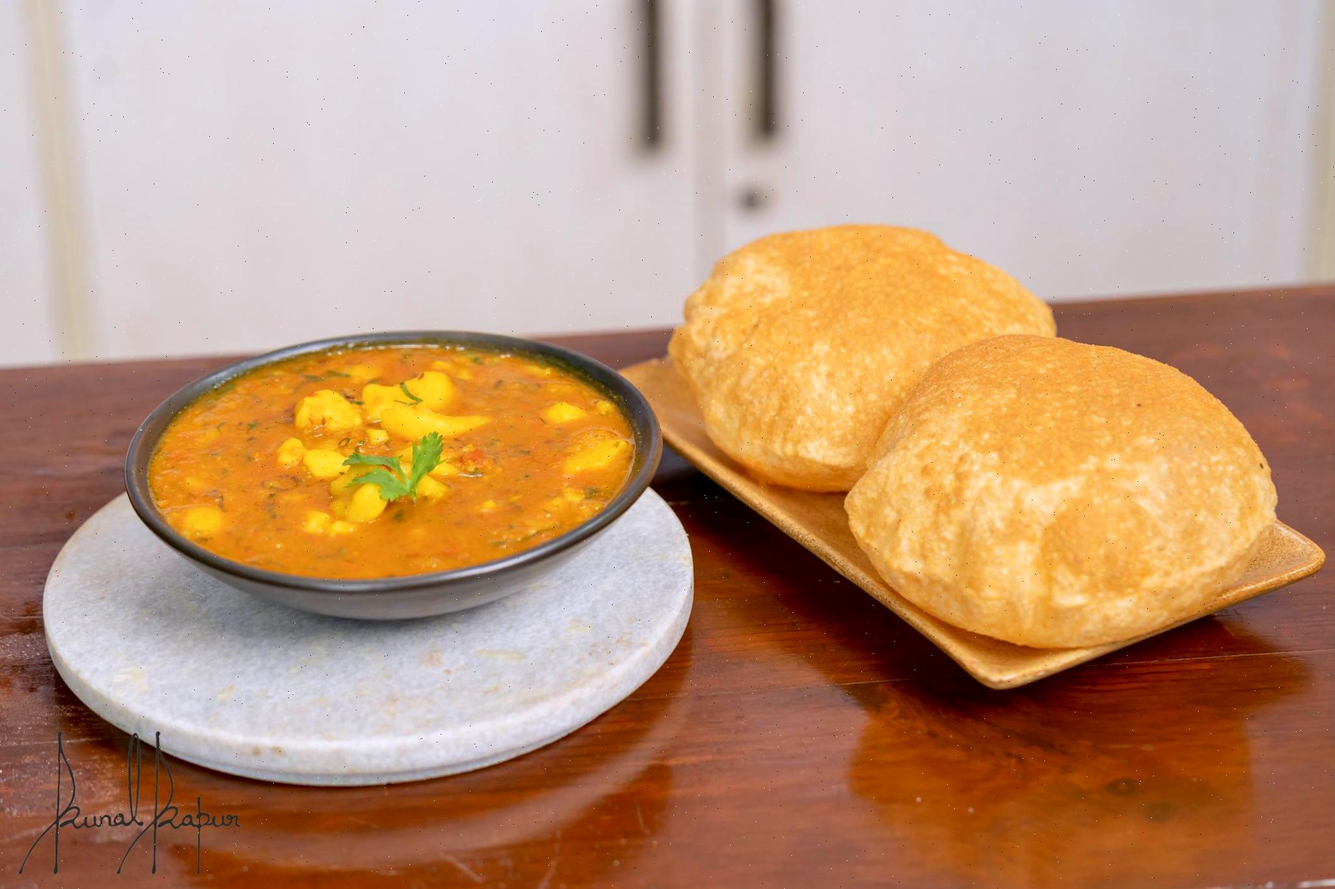puri: (673, 222, 1282, 650)
